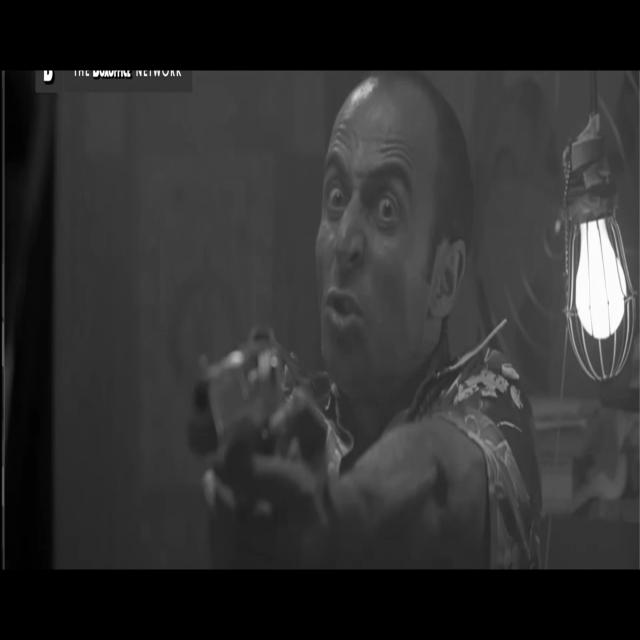weapons: (175, 304, 313, 542)
